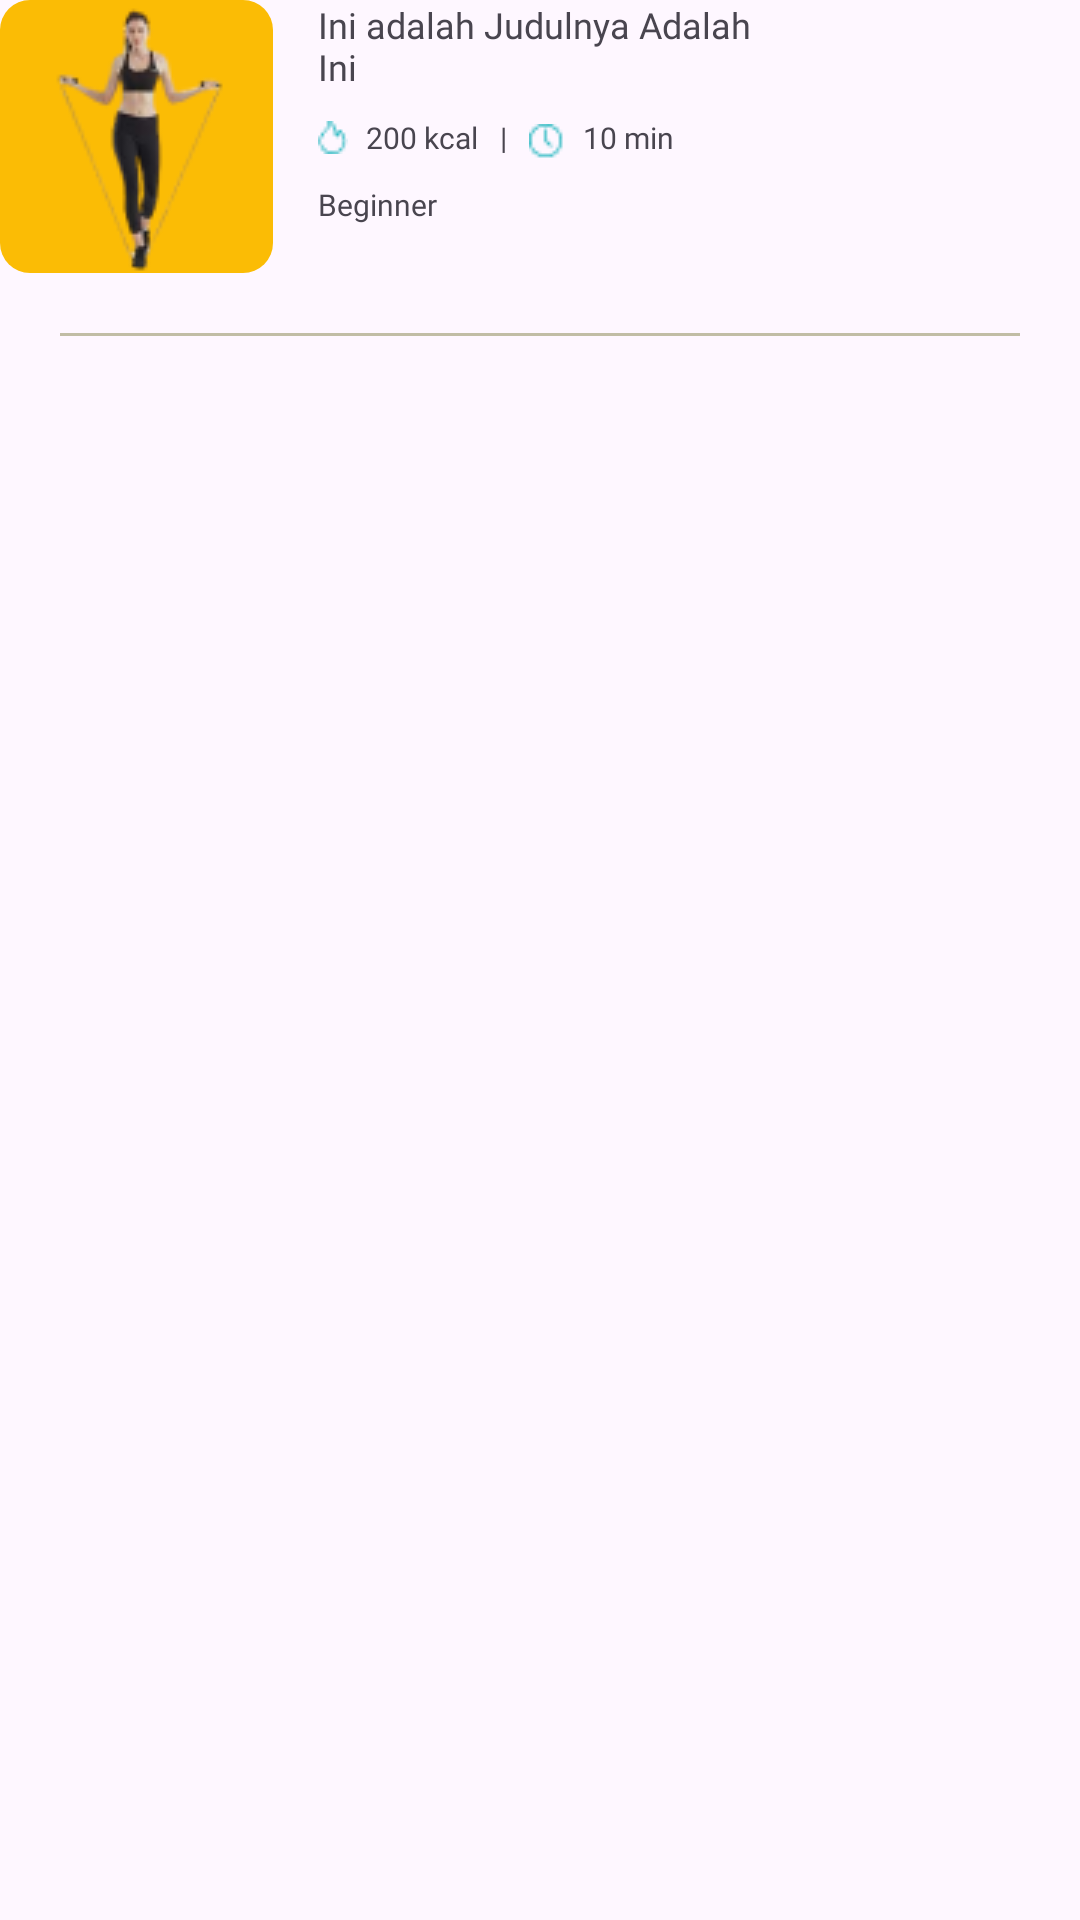

Named icons in this screenshot (1080*1920) and their bounding boxes, box(x1, y1, x2, y2):
calories: box(318, 121, 348, 154)
clock: box(529, 124, 563, 158)
